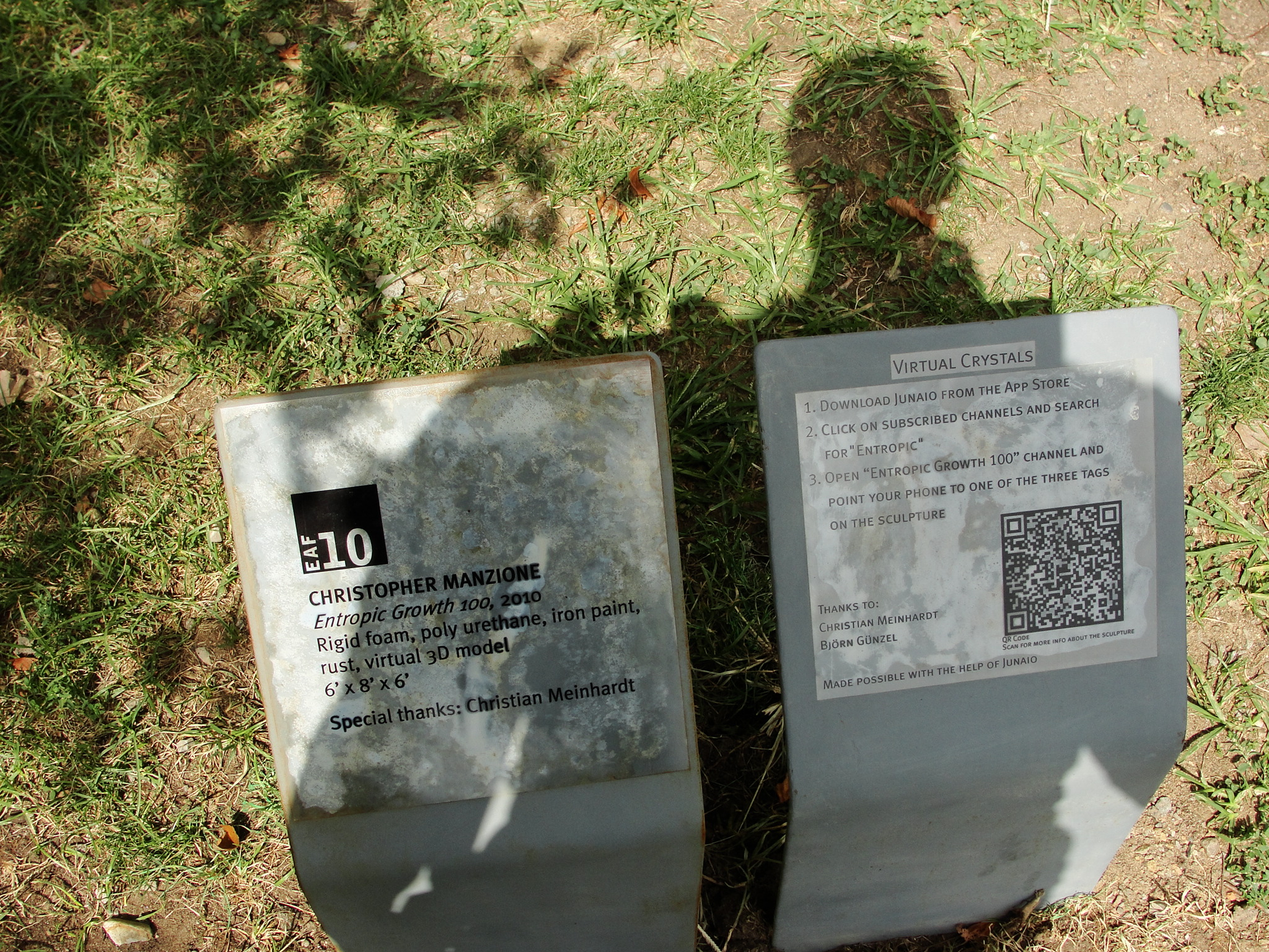QR-CODE: (1004, 503, 1120, 632)
